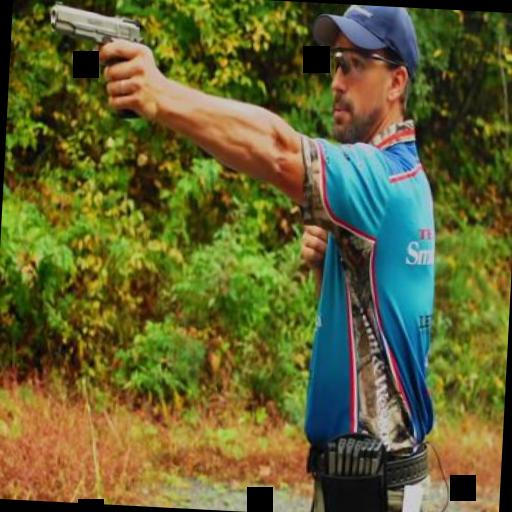Handgun: (40, 2, 150, 104)
